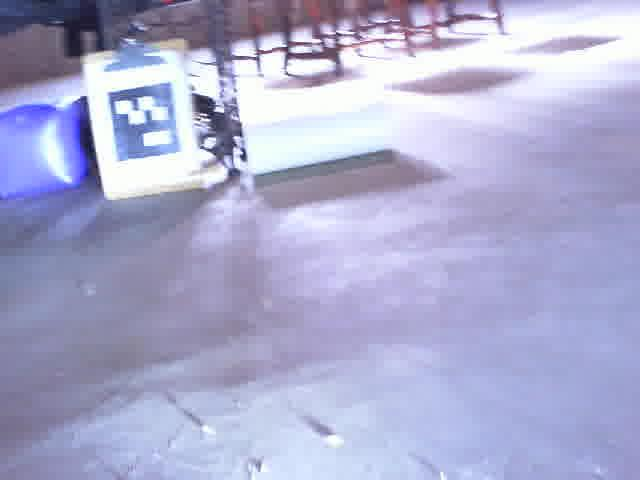coral: (244, 85, 398, 183)
